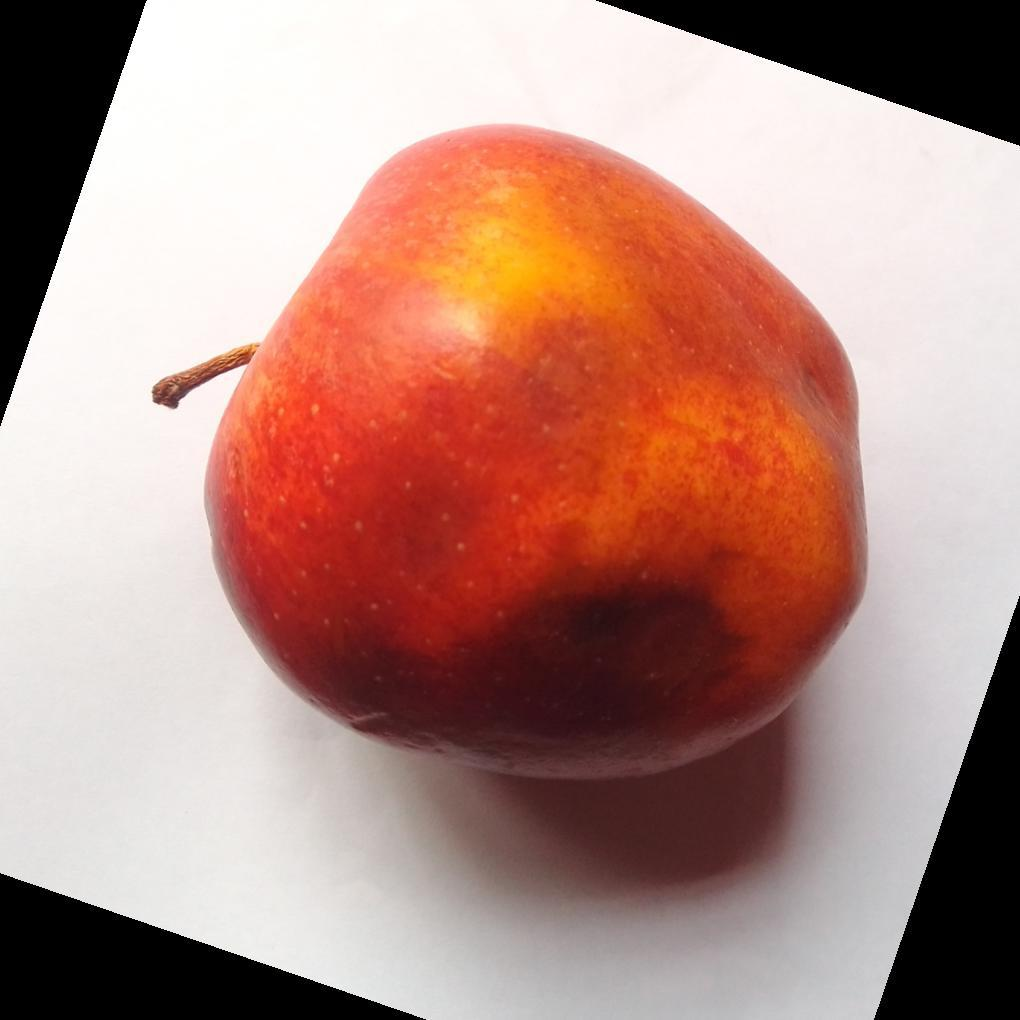FreshOrange: (200, 124, 870, 785)
